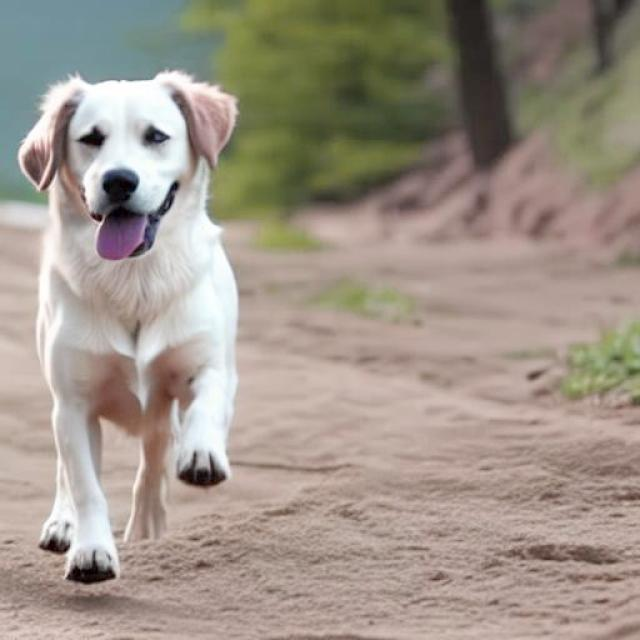Dog: (15, 68, 239, 584)
